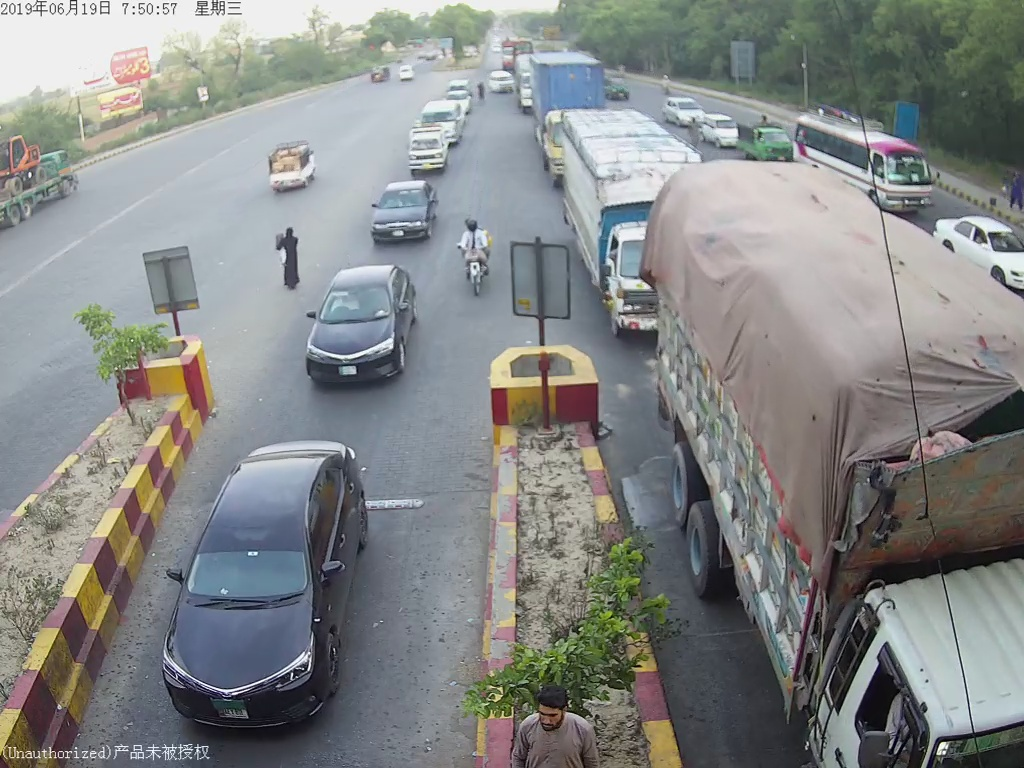Cat-1: (158, 432, 366, 723), (301, 254, 419, 387), (366, 179, 445, 244), (403, 129, 453, 179)
Cat-4: (564, 102, 697, 338)
